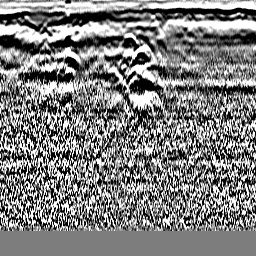cavity: (117, 32, 138, 49)
